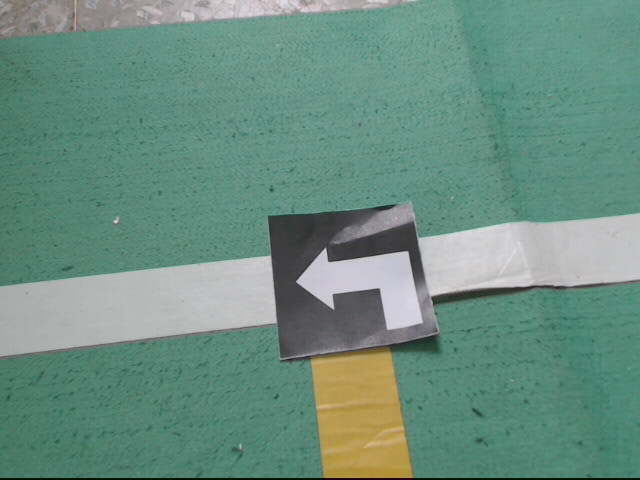left: (267, 200, 440, 363)
